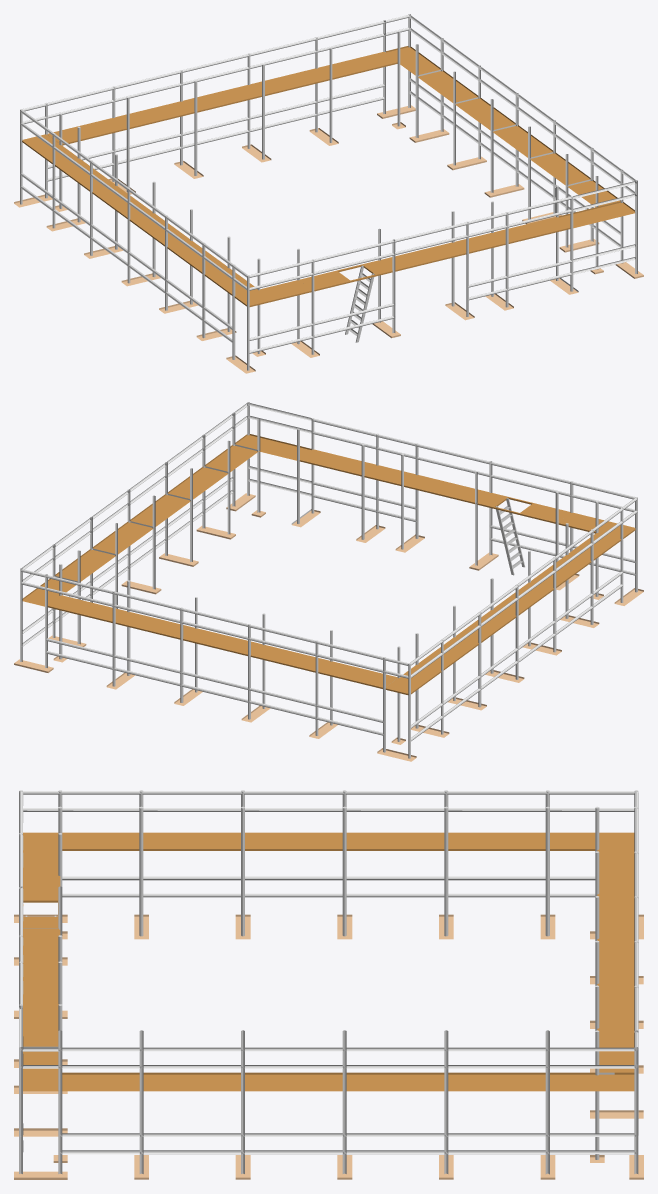
The picture shows the model from 3 angles, top to bottom: view 1: azimuth 30°, elevation 25°; view 2: azimuth 150°, elevation 25°; view 3: azimuth 270°, elevation 25°; orthographic projection. The views are drawn at different scales.
Visible parts, largest first — view 1: geruest merged; view 2: geruest merged; view 3: geruest merged.
Boxes of the visible parts, <box> form: geruest merged: <box>14,14,643,373</box>; geruest merged: <box>14,402,643,761</box>; geruest merged: <box>14,790,643,1179</box>.
Bounding box in the file's own units: 12.37 × 2.83 × 12.52.
